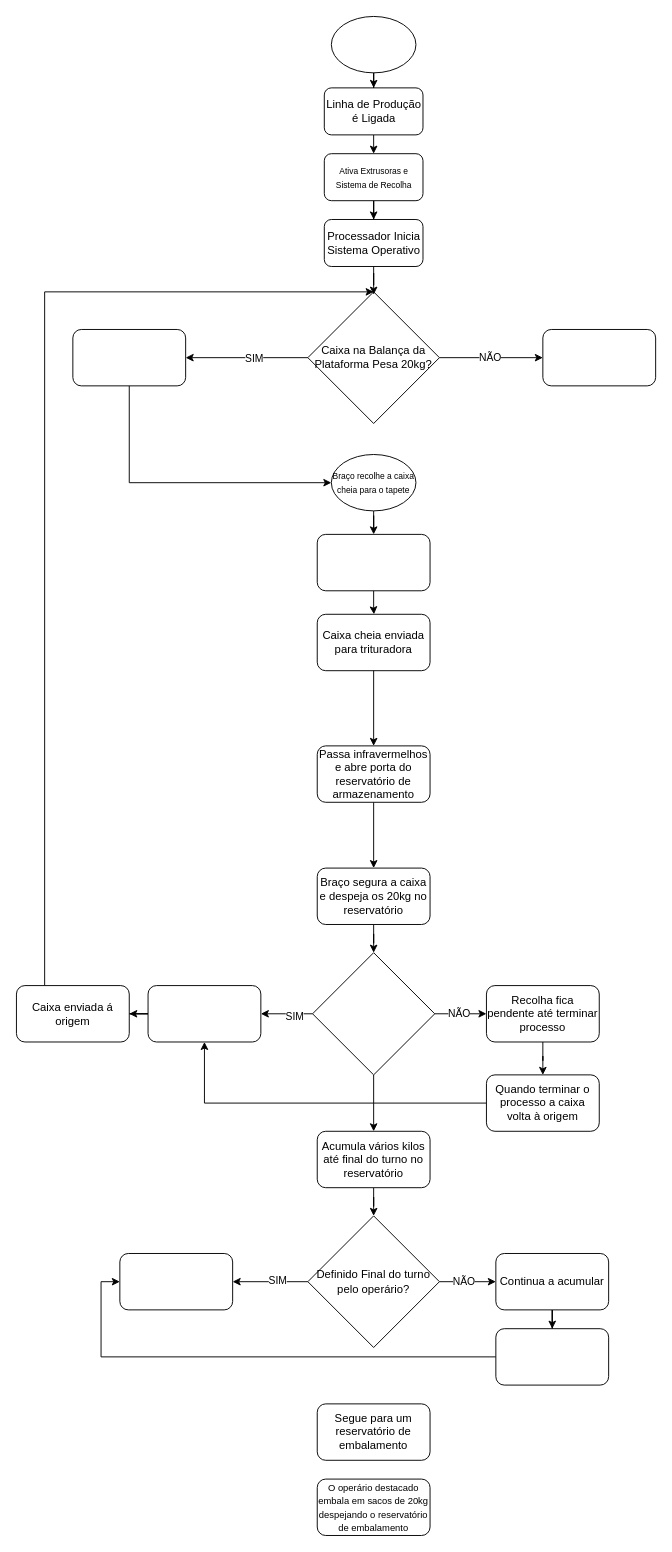
This 672x1552 diagram has some shape labels left out. Each missing label, with the centre of its shape:
"Braço coloca uma caixa vazia na plataforma" belongs at pixel 373 562.
"Braço recolhe a caixa vazia" belongs at pixel 204 1013.
"Detectado Reservatório Cheio" belongs at pixel 552 1356.
"Está finalizado?" belongs at pixel 373 1013.
"Inicio" belongs at pixel 373 44.
"Material enviado automaticamente para a trituradora" belongs at pixel 176 1281.
"Não acontece nada" belongs at pixel 599 357.
"Plataforma sobe a caixa" belongs at pixel 129 357.
